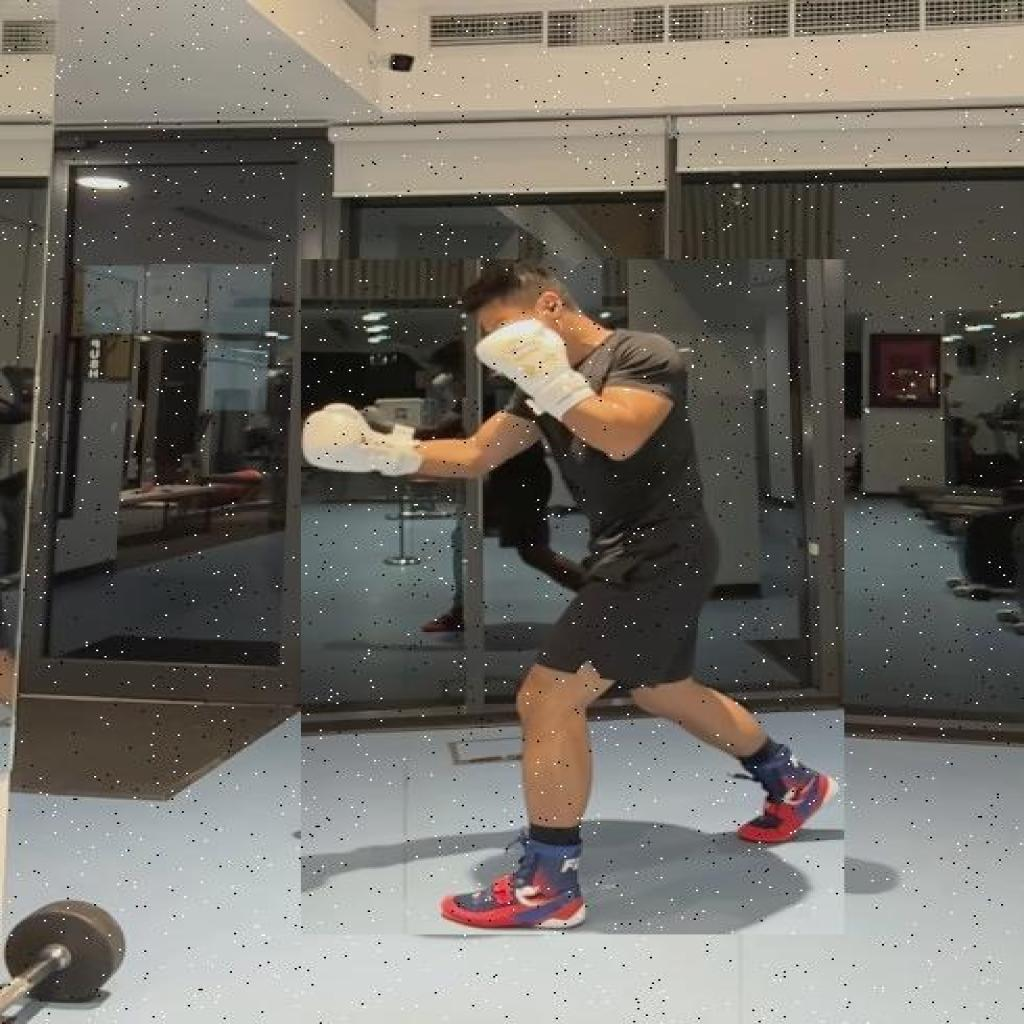uppercut: (301, 259, 844, 935)
